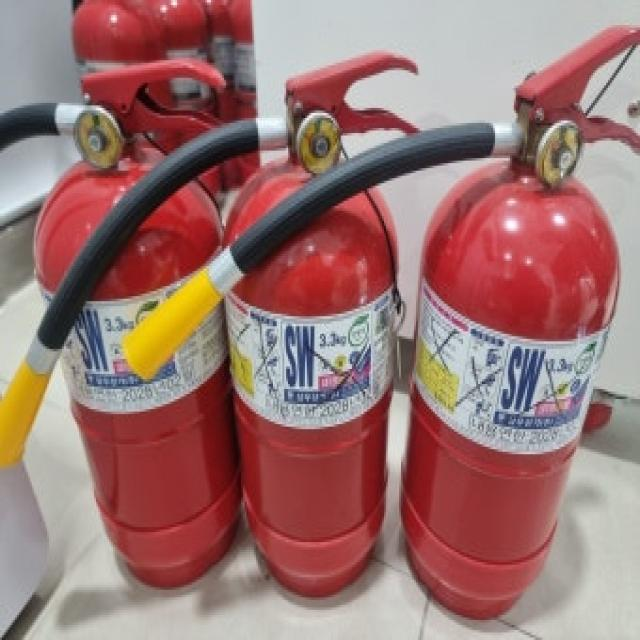pressure gauge: (73, 105, 122, 168), (536, 120, 582, 186), (296, 110, 339, 173)
